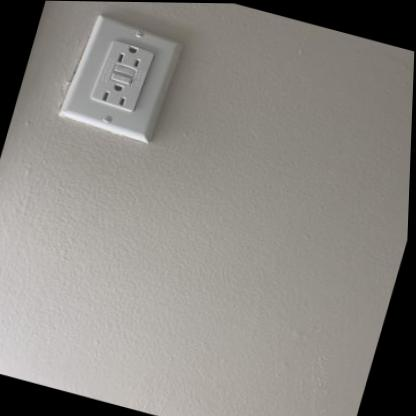OUTLET: (57, 13, 187, 143)
